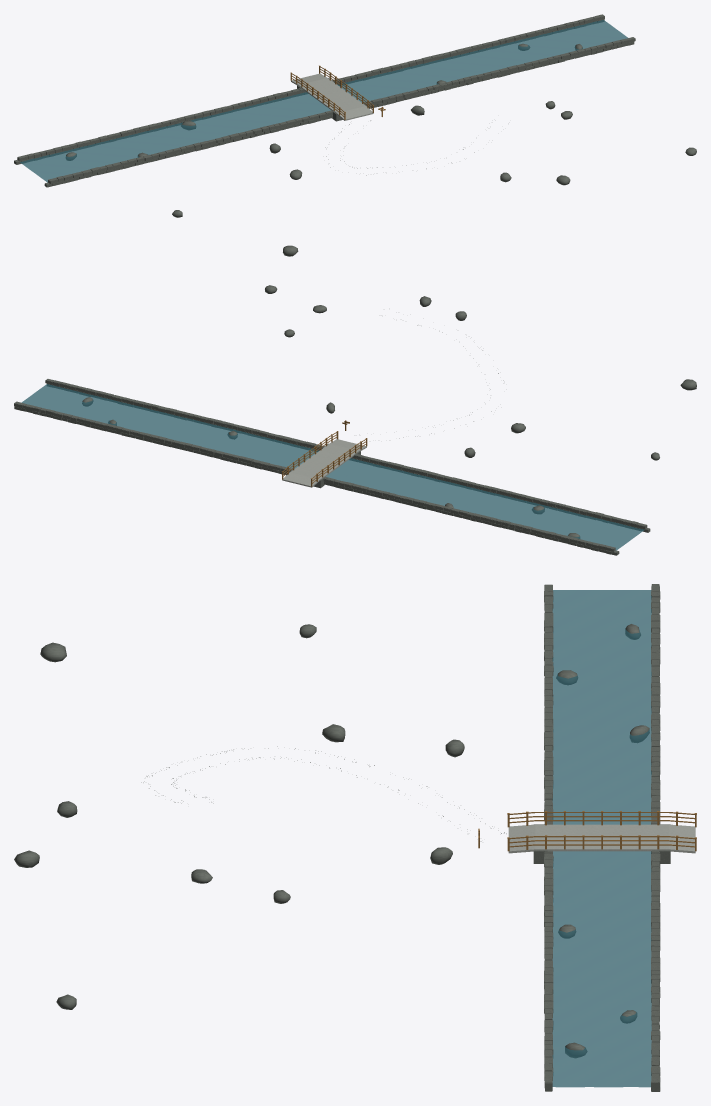
Rendered from expansion-river-bridge.glb.
3 renders of one model, top to bottom at view 1: azimuth 30°, elevation 25°; view 2: azimuth 150°, elevation 25°; view 3: azimuth 270°, elevation 25°, orthographic. The views are drawn at different scales.
Parts seen in each view (by area): view 1: River_Water_Surface, River_Stone_Banks, Bridge_Deck_and_Ramps, River_and_Hill_Boulders, Bridge_Timber_Railings; view 2: River_Water_Surface, River_Stone_Banks, Bridge_Deck_and_Ramps, River_and_Hill_Boulders, Bridge_Timber_Railings; view 3: River_Water_Surface, River_Stone_Banks, Bridge_Deck_and_Ramps, River_and_Hill_Boulders, Bridge_Timber_Railings.
Boxes of the visible parts, x1,y1,x2,y2 form: River_Water_Surface: (20,20,627,182); River_Stone_Banks: (14,14,635,187); Bridge_Deck_and_Ramps: (291,73,373,120); River_and_Hill_Boulders: (66,43,696,256); Bridge_Timber_Railings: (290,65,373,119); River_Water_Surface: (22,384,644,550); River_Stone_Banks: (14,379,650,555); Bridge_Deck_and_Ramps: (282,439,366,487); River_and_Hill_Boulders: (82,285,696,538); Bridge_Timber_Railings: (282,431,367,486); River_Water_Surface: (552,590,651,1087); River_Stone_Banks: (544,584,660,1091); Bridge_Deck_and_Ramps: (508,824,695,853); River_and_Hill_Boulders: (14,624,649,1057); Bridge_Timber_Railings: (507,811,696,851).
Bounding box in the file's own units: 88.73 × 8.32 × 51.08.
Materials: 5 (3 with a texture image).
